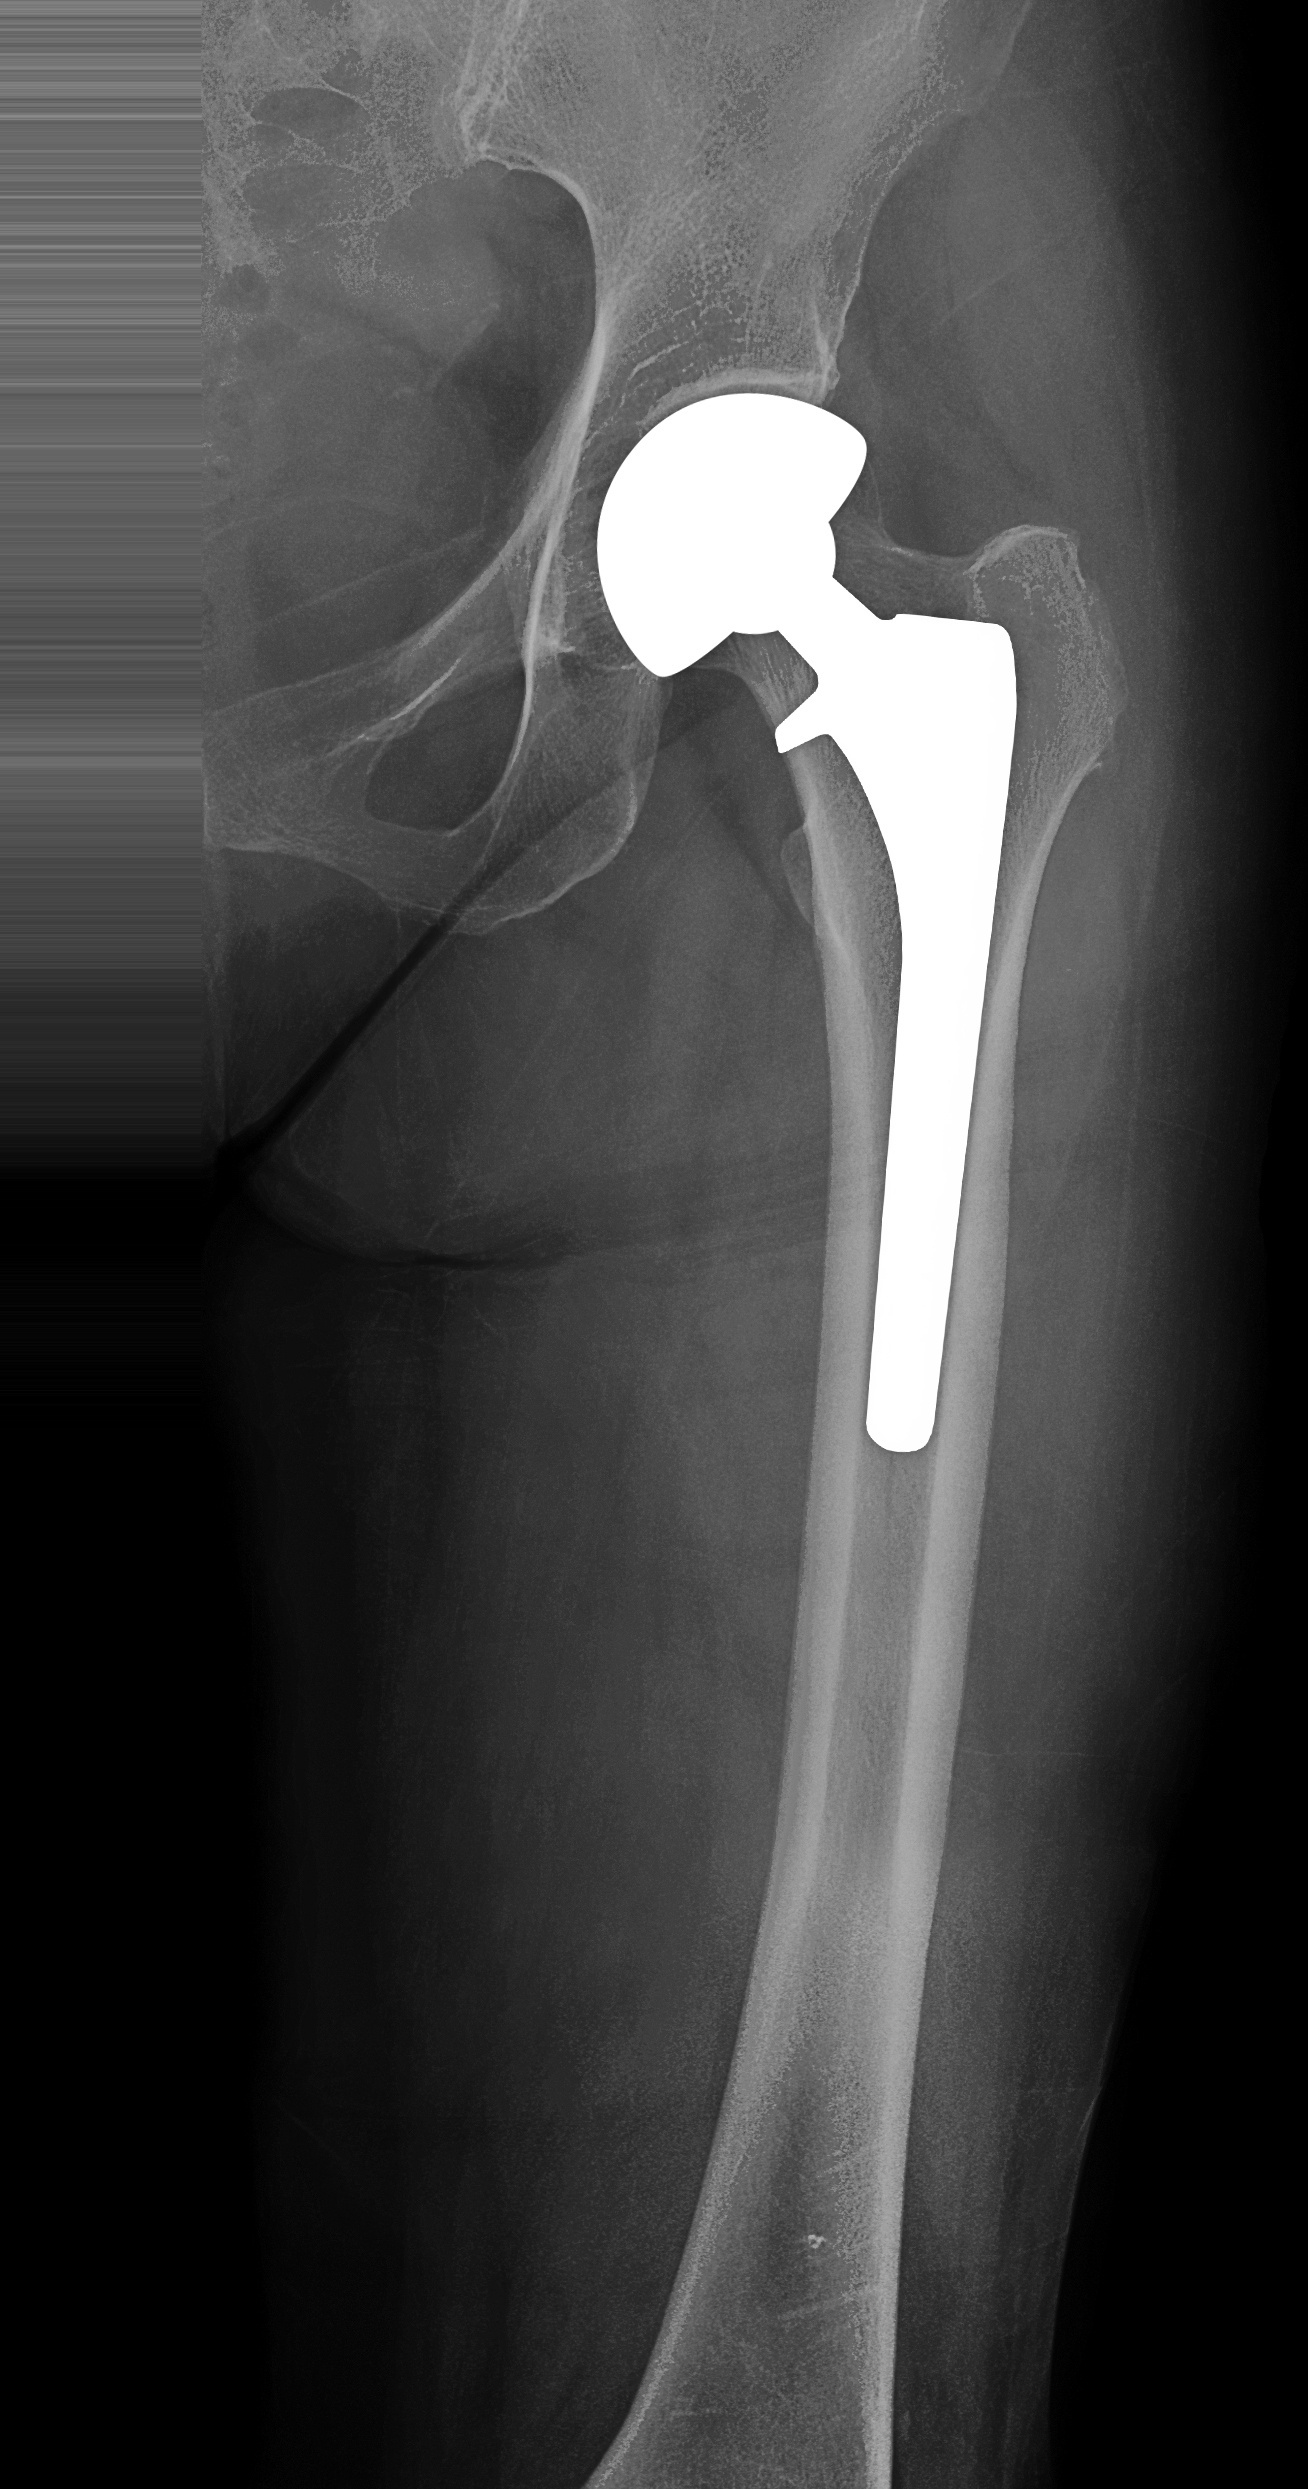Hip - APR - Zimmer: (591, 361, 1061, 1551)
